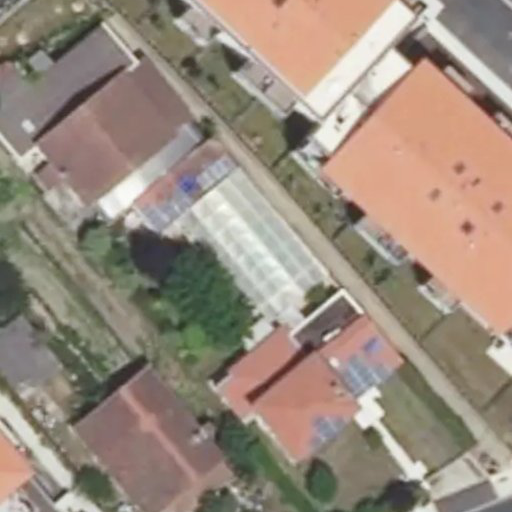pool: (211, 219, 300, 264)
